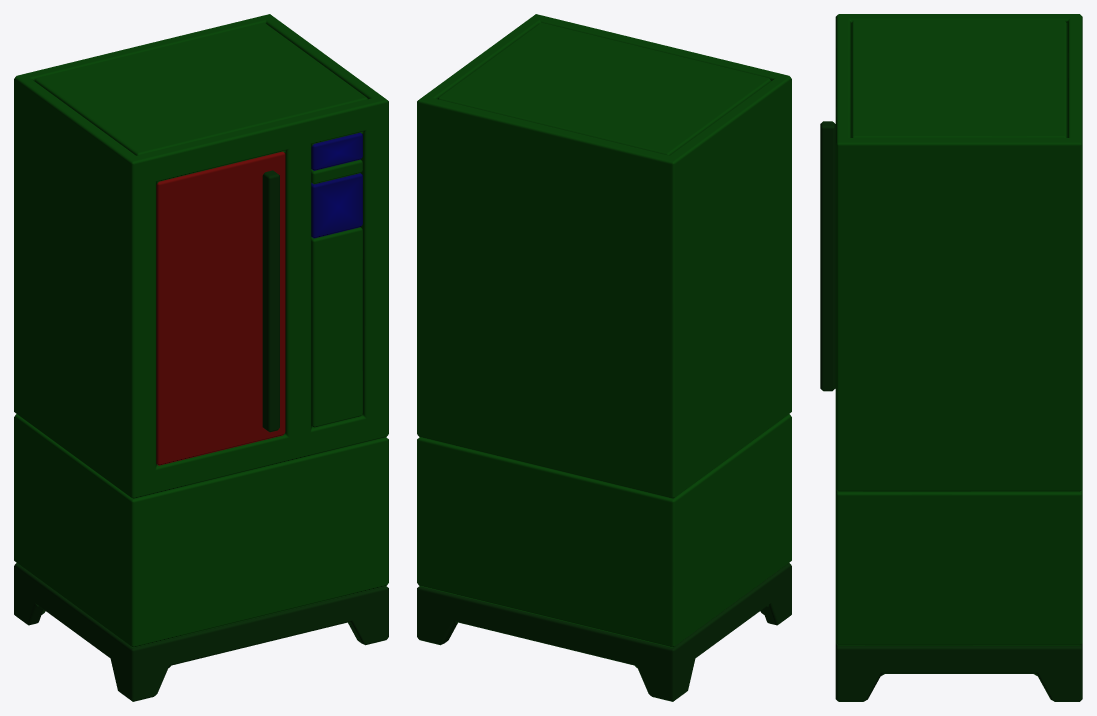
3 views of the same model, side by side, from view 1: azimuth 30°, elevation 25°; view 2: azimuth 150°, elevation 25°; view 3: azimuth 270°, elevation 25° (orthographic). The views are drawn at different scales.
Visible parts, largest first — view 1: Plane.575; view 2: Plane.575; view 3: Plane.575.
Boxes of the visible parts, left/top/right/bottom form: Plane.575: left=14, top=14, right=388, bottom=701; Plane.575: left=417, top=14, right=791, bottom=701; Plane.575: left=820, top=14, right=1082, bottom=701.
Bounding box in the file's own units: 1 × 2 × 0.85.
